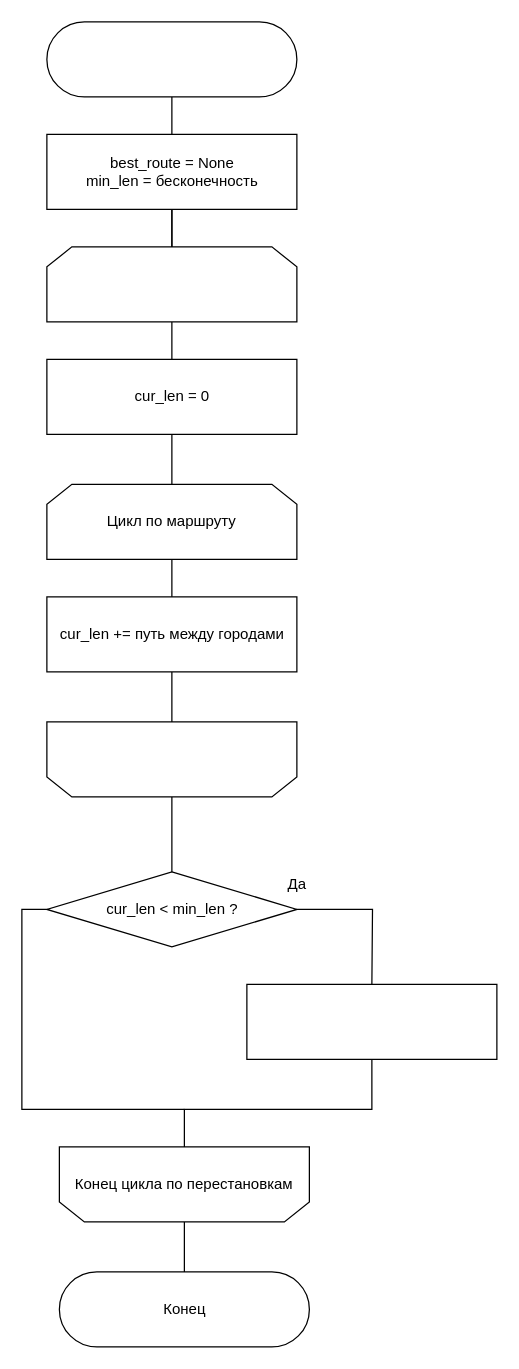
Image size: 519x1369. Some labels were removed from this diagram. The box of each missing label's shape, as (x1, y1, x2, y2) in pixels:
min_len = cur_len best_route = cur_route: (246, 983, 497, 1059)
Конец цикла по маршруту: (46, 721, 297, 797)
Начало: (46, 21, 297, 97)
Цикл по перестановкам: (46, 246, 297, 322)
